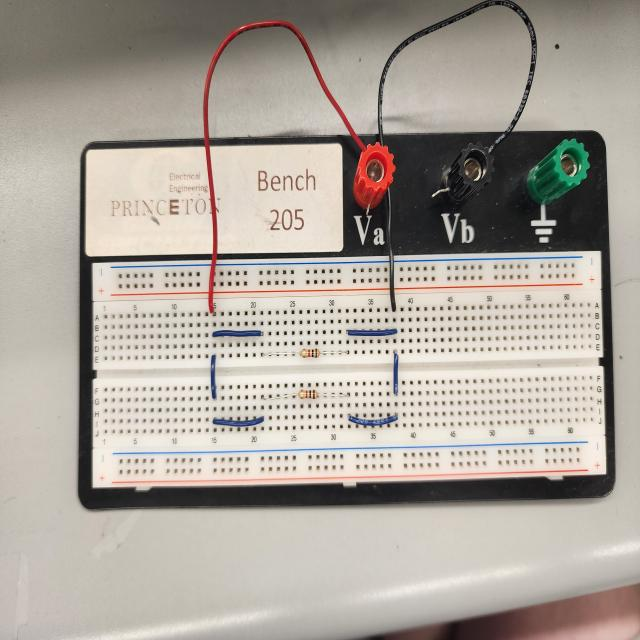Capacitor Electrolitico: (298, 345, 324, 362), (298, 385, 319, 404)
